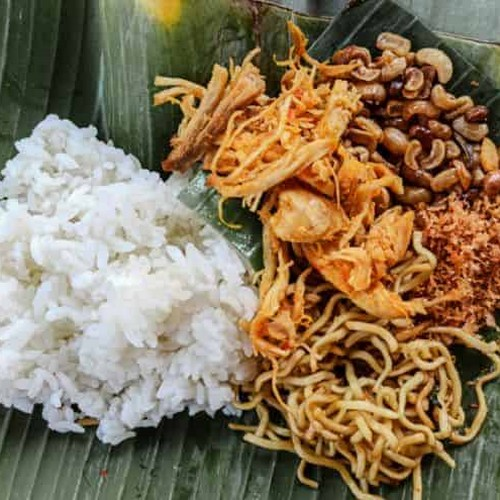nasi jinggo: (20, 142, 485, 462)
